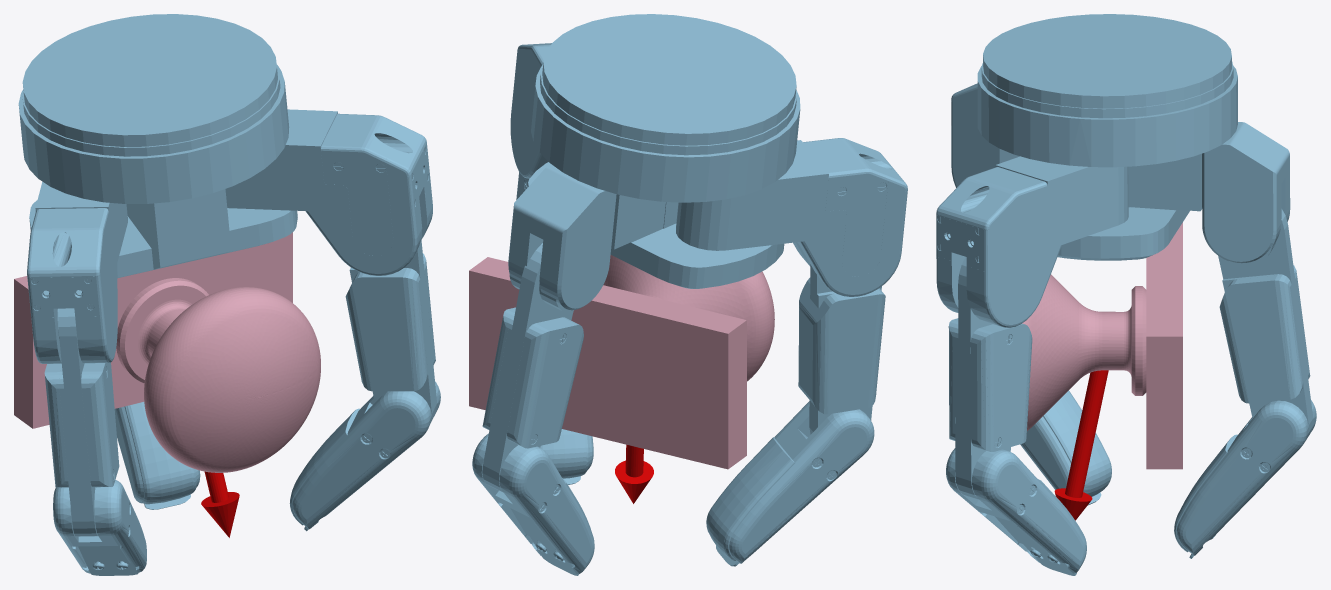
3 views of the same model, side by side, from view 1: azimuth 30°, elevation 25°; view 2: azimuth 150°, elevation 25°; view 3: azimuth 270°, elevation 25° (orthographic). The views are drawn at different scales.
Visible parts, largest first — view 1: world, door_knob.stl; view 2: world, door_knob.stl; view 3: world, door_knob.stl.
Boxes of the visible parts, box(x1,y1,x2,y2) form: world: box(18, 14, 440, 575); door_knob.stl: box(14, 232, 320, 472); world: box(472, 14, 907, 575); door_knob.stl: box(469, 255, 774, 469); world: box(936, 14, 1316, 575); door_knob.stl: box(1022, 222, 1182, 469).
Bounding box in the file's own units: 0.1573 × 0.1819 × 0.1298.
